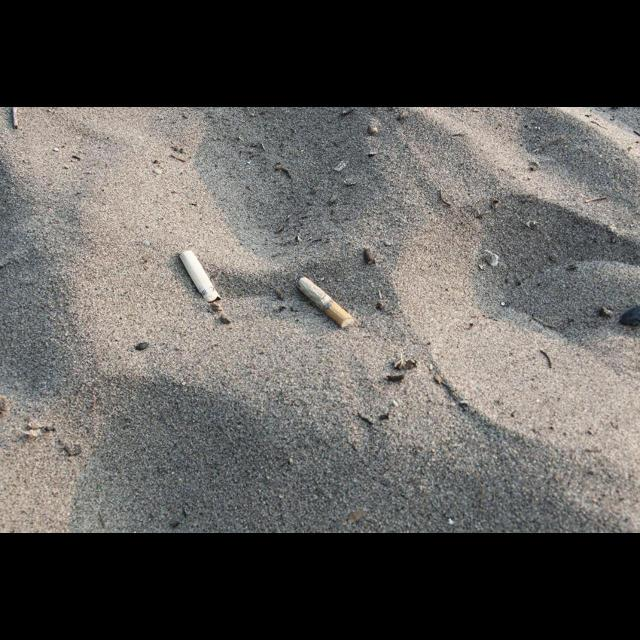cigarette: (299, 277, 355, 328), (180, 251, 219, 302)
